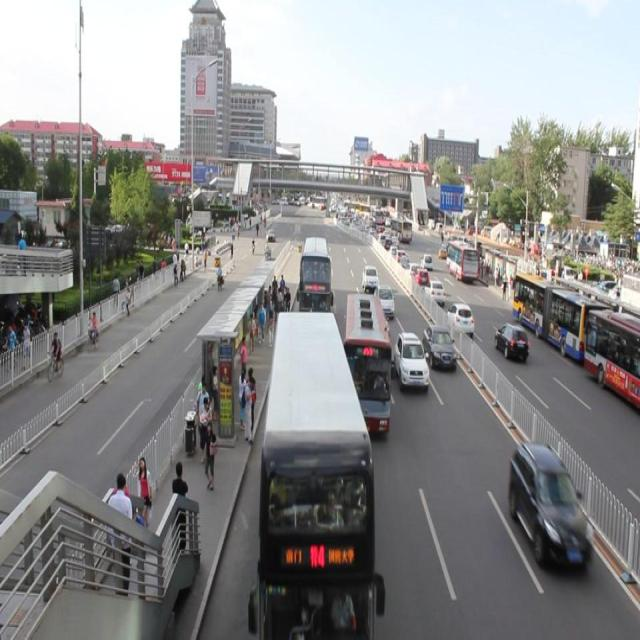car: (504, 439, 594, 580), (391, 327, 430, 392), (420, 319, 458, 373), (371, 282, 397, 318), (360, 262, 380, 294)
van: (246, 309, 388, 640), (337, 286, 396, 443), (294, 230, 337, 320)
